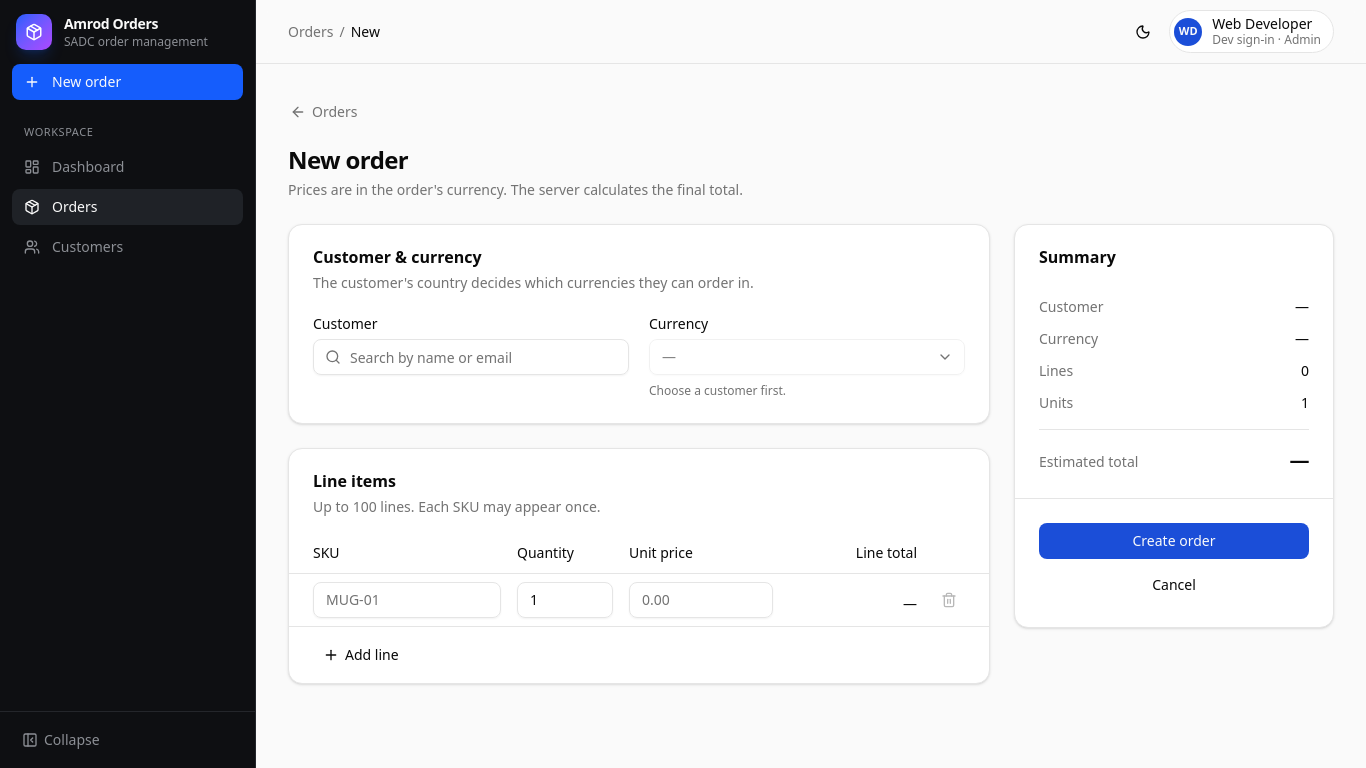
New order form › lets you pick the customer by searching
Check: the dropdown labelled "Currency" is disabled, box [649, 339, 965, 375]
Check: the button "Thandi Mokoena" is not shown
Type "Thandi" into the search field labelled "Customer" at (471, 357), box [313, 339, 629, 375]
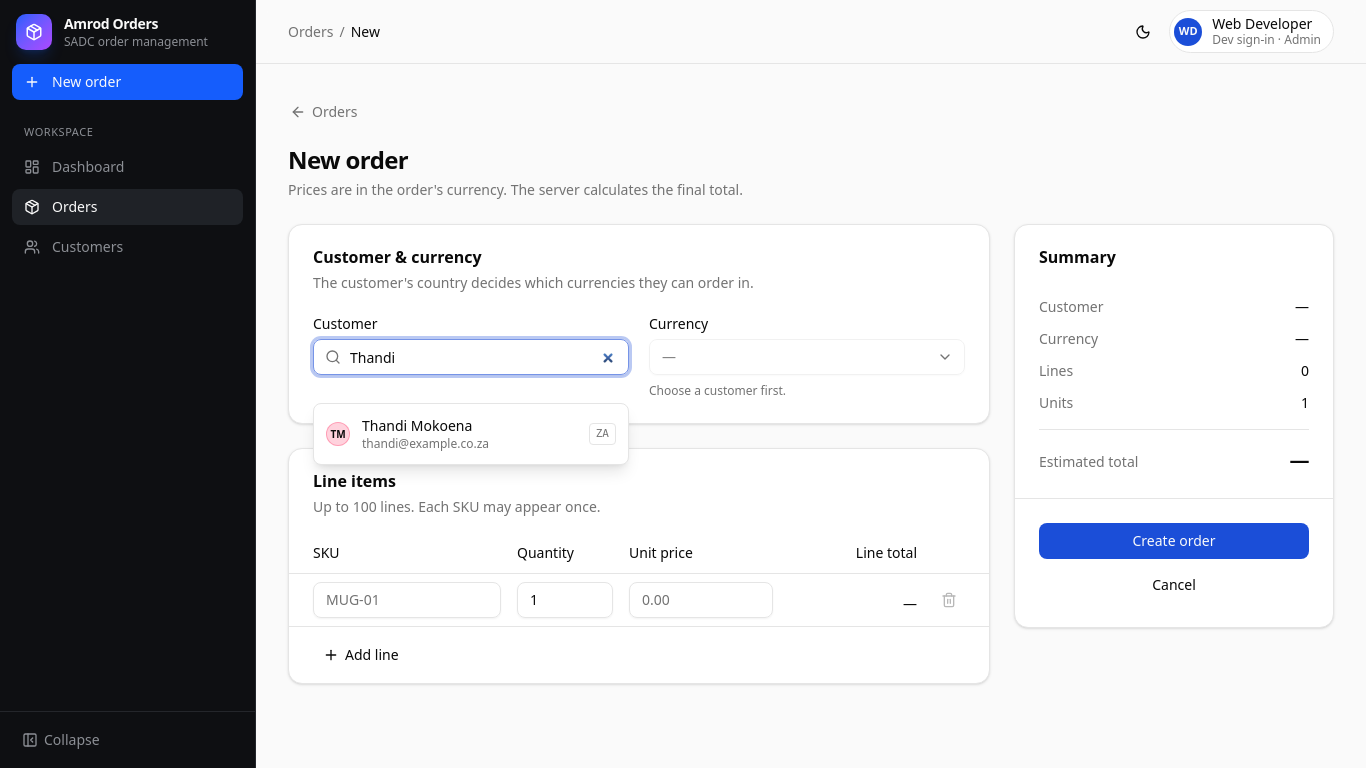
Click the button "TM Thandi Mokoena thandi@example.co.za ZA" at (471, 434), box [318, 408, 624, 460]
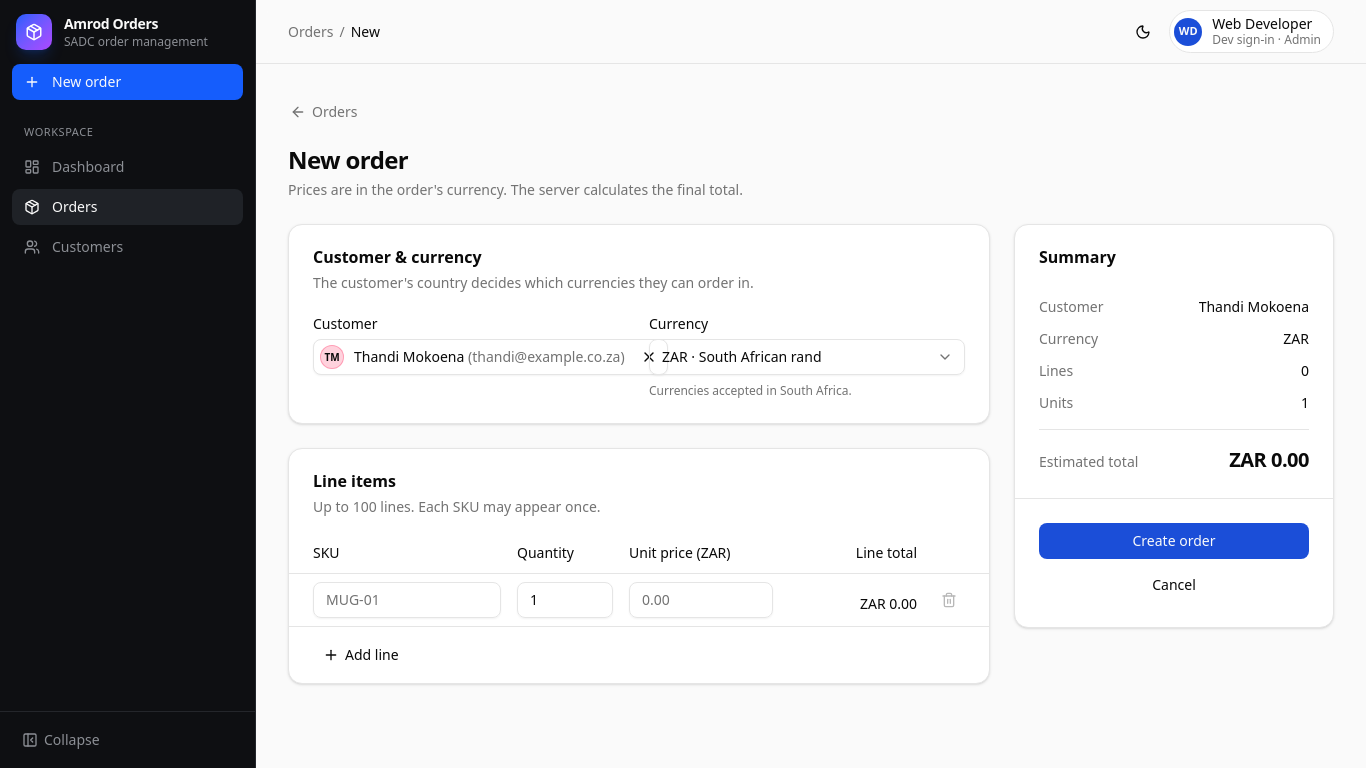
Check: the dropdown labelled "Currency" shows "ZAR · South African rand", box [649, 339, 965, 375]
